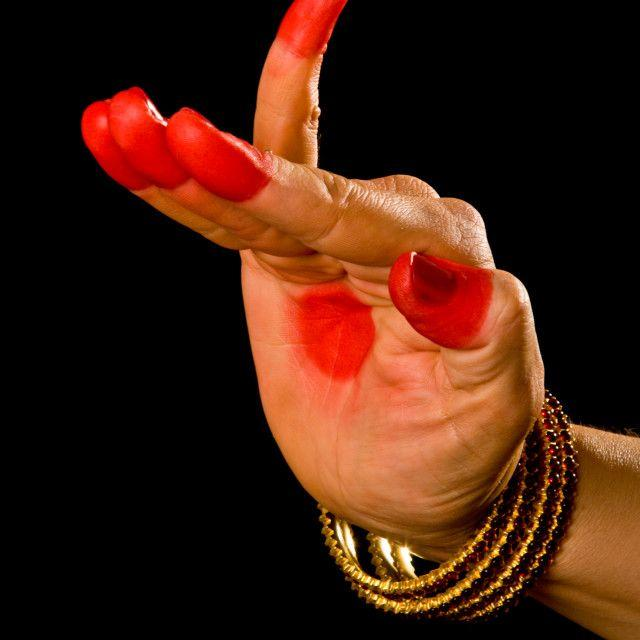Hamsapaksha: (80, 0, 640, 640)
